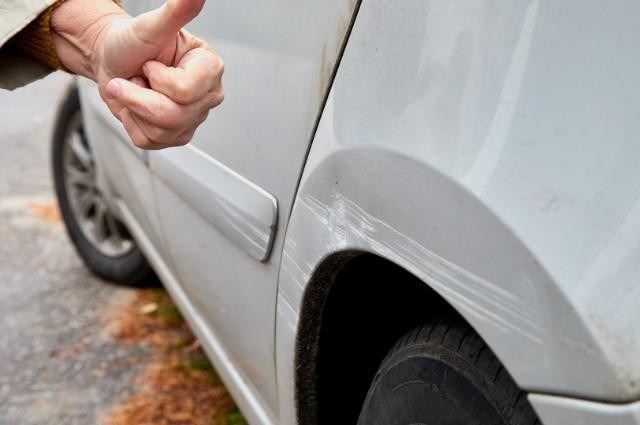Fender: (273, 163, 549, 384)
